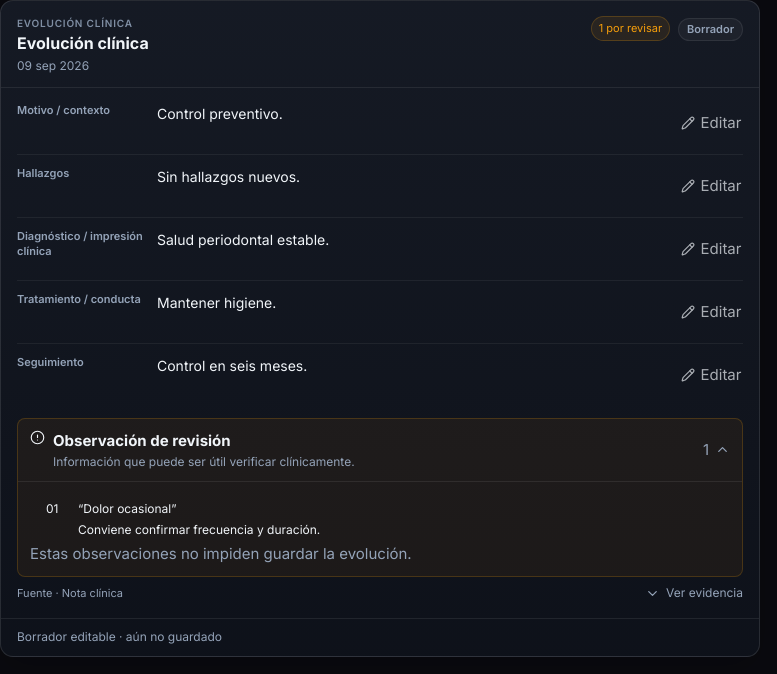
Scenario: EvolutionReviewArtifact › opens one flag by default and toggles its details
Expected: the text "Dolor ocasional" is shown, [78,501,176,516]
Click the button "Observación de revisión".
click(142, 440)  # box [18,419,742,481]
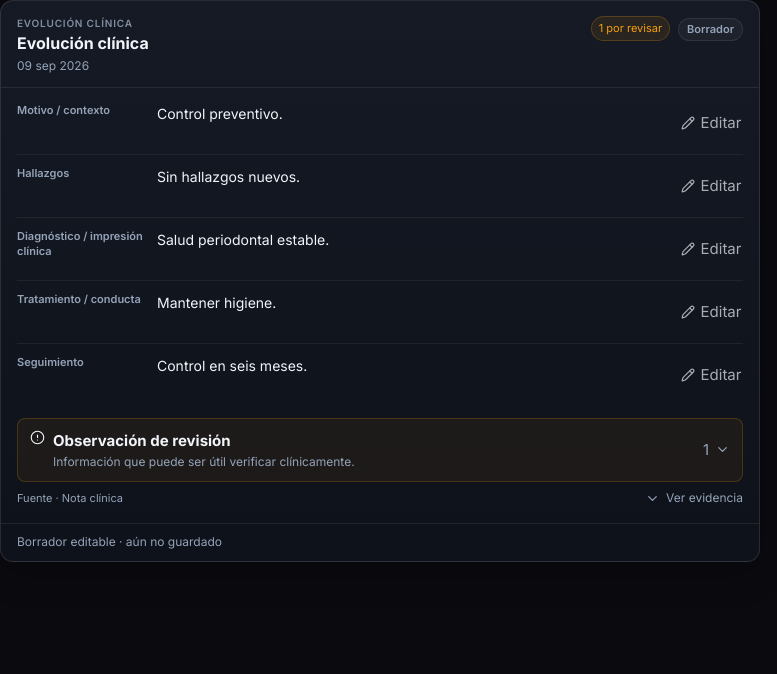
Now the button "Observación de revisión" is collapsed, box [18,419,742,481]
Now the text "Dolor ocasional" is gone
